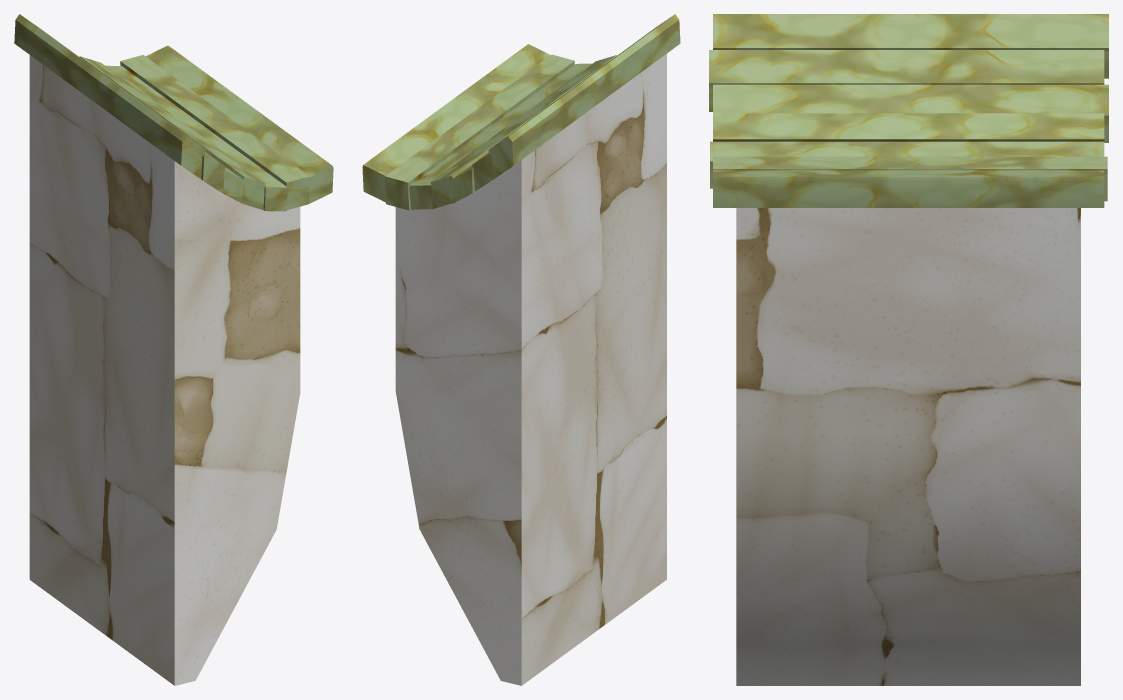
The model's file is CastleClip.fbx.
The picture shows the model from 3 angles, left to right: view 1: azimuth 30°, elevation 25°; view 2: azimuth 150°, elevation 25°; view 3: azimuth 270°, elevation 25°; orthographic projection. The views are drawn at different scales.
Visible parts, largest first — view 1: Cube; view 2: Cube; view 3: Cube.
Boxes of the visible parts, x1,y1,x2,y2 form: Cube: (14,14,333,685); Cube: (362,14,680,685); Cube: (709,14,1108,685).
Bounding box in the file's own units: 1.21 × 4.23 × 2.32.
